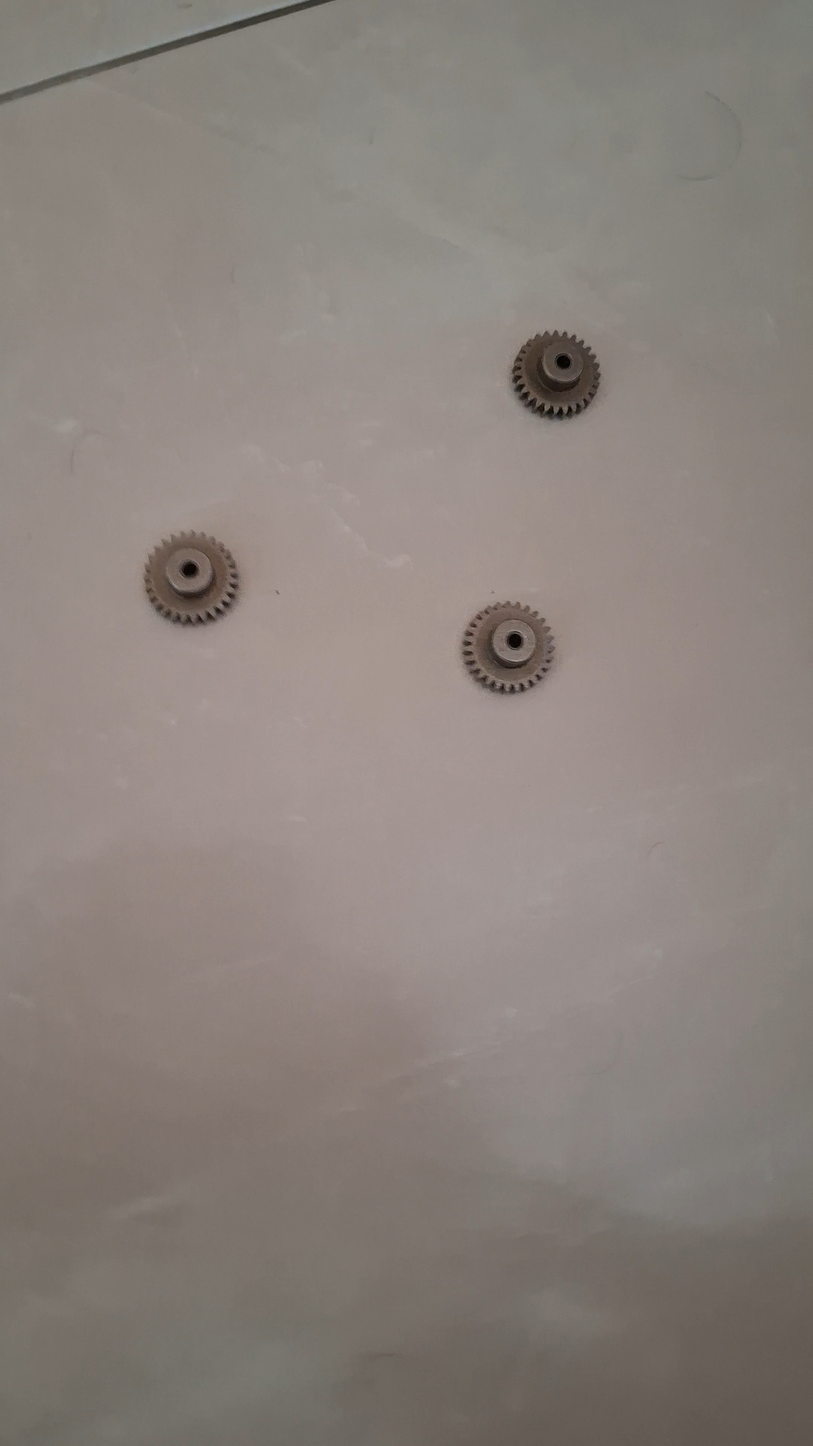spur gear: (144, 532, 239, 624), (463, 602, 554, 692), (512, 331, 600, 416)
